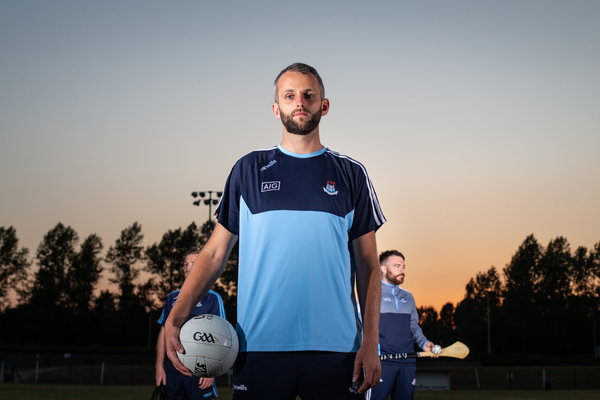ball: (176, 313, 232, 379)
player: (184, 47, 382, 396), (367, 241, 425, 378), (165, 249, 216, 381)
